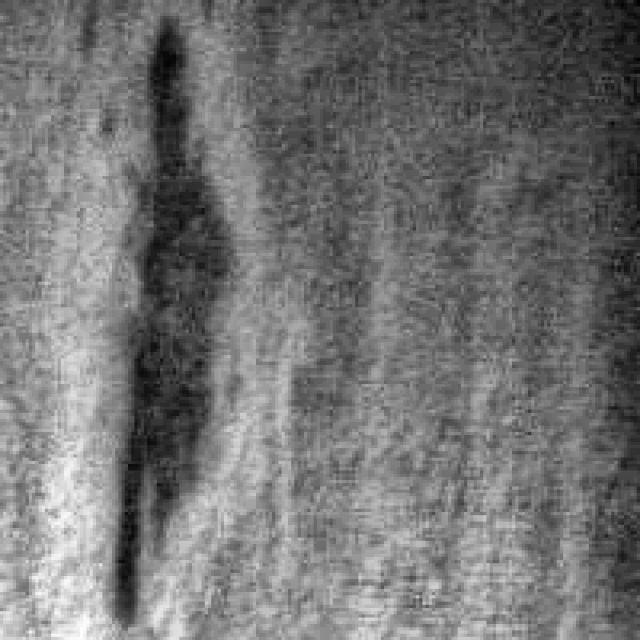Patches: (102, 6, 240, 628)
